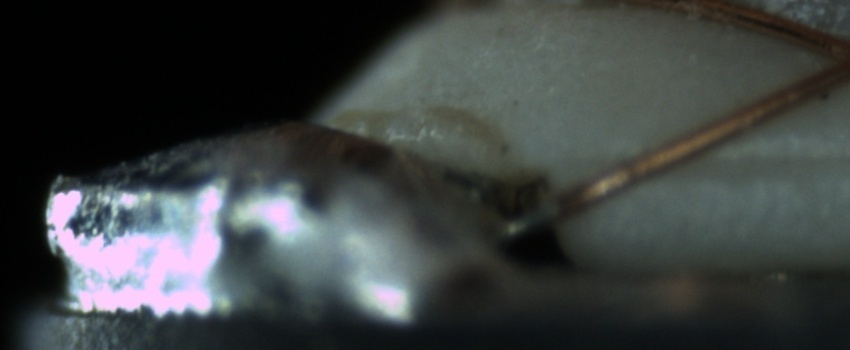CL: (804, 21, 850, 95)
DL: (676, 126, 850, 192)
